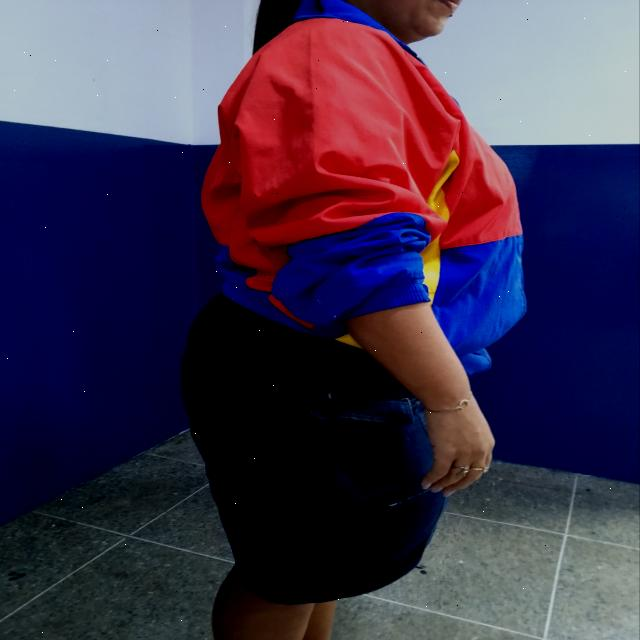chaqueta_unefa: (198, 1, 530, 374)
pantalon_oscuro: (178, 293, 448, 603)
